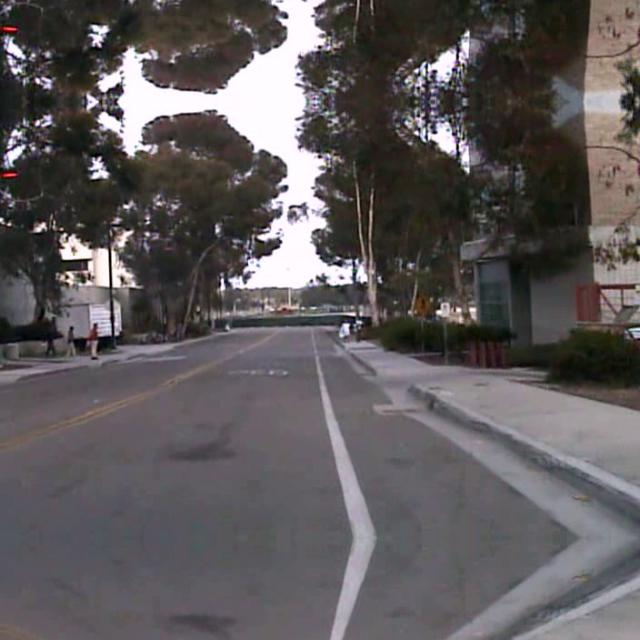pedestrianCrossing: (413, 290, 431, 316)
